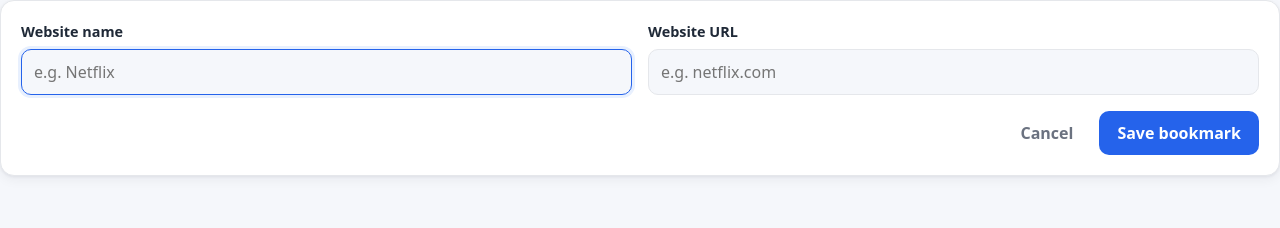
Test case: AddBookmarkForm › rejects an invalid address
The width and height of the screenshot is (1280, 228).
In the field labelled "Website name": (326, 72) [21,49,632,95], type "Test"
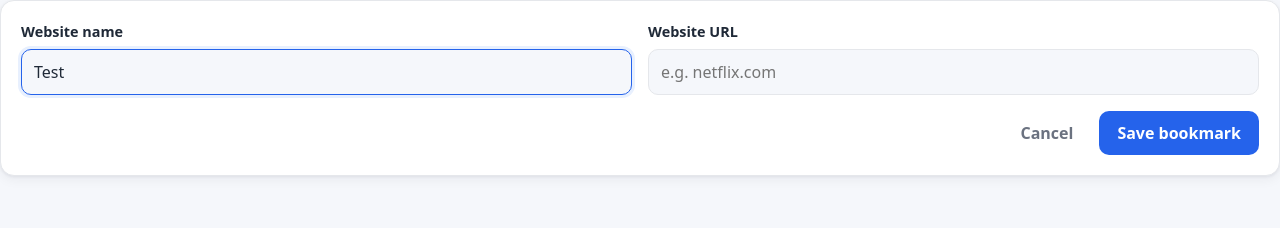
In the field labelled "Website URL": (954, 72) [648,49,1259,95], type "not-a-site"
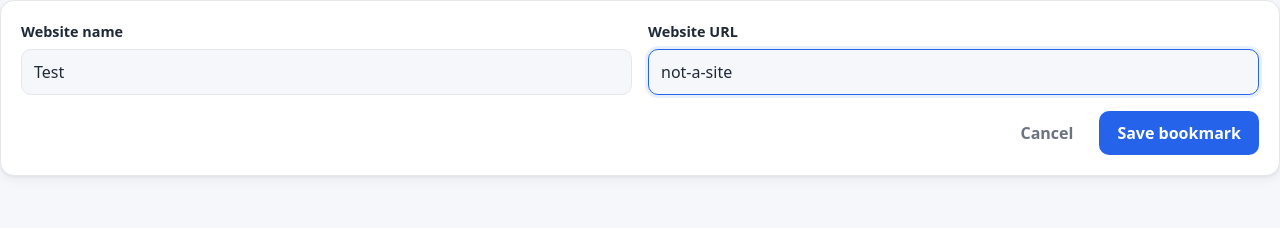
Click the button "Save bookmark": click(1179, 133) [1099,111,1259,155]
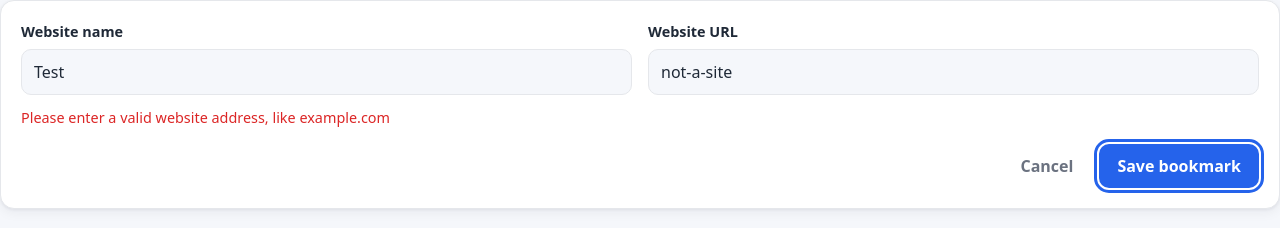
Expected: the message shows "valid website address", [21,108,390,127]
